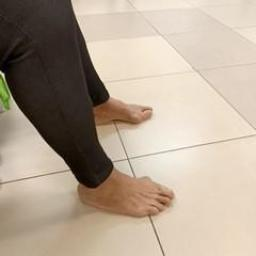Lateral View -Right Foot-: (58, 144, 186, 231)
